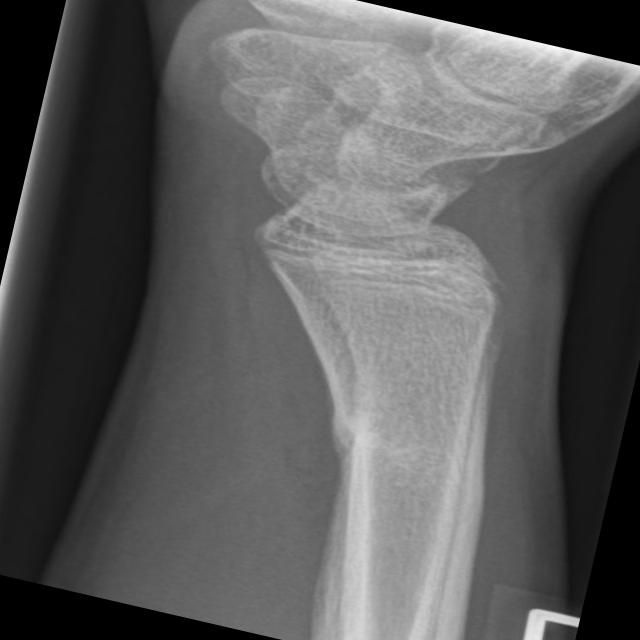fracture: (234, 204, 546, 350)
